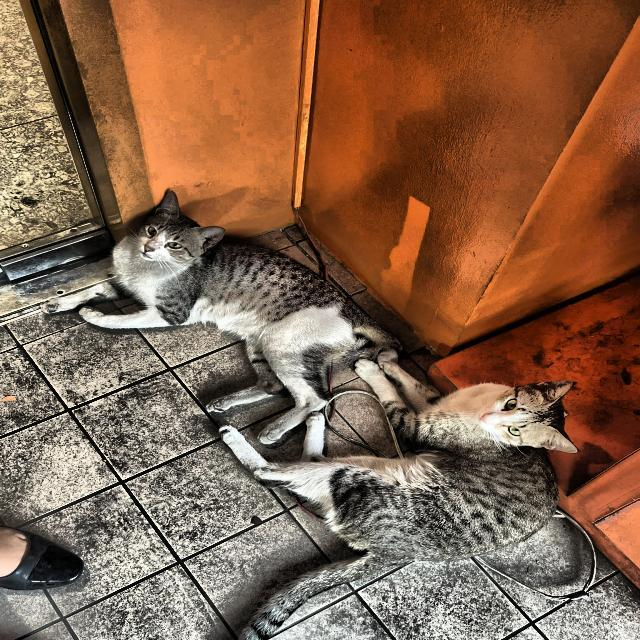Healthy skin: (354, 444, 536, 552), (202, 262, 352, 364)
